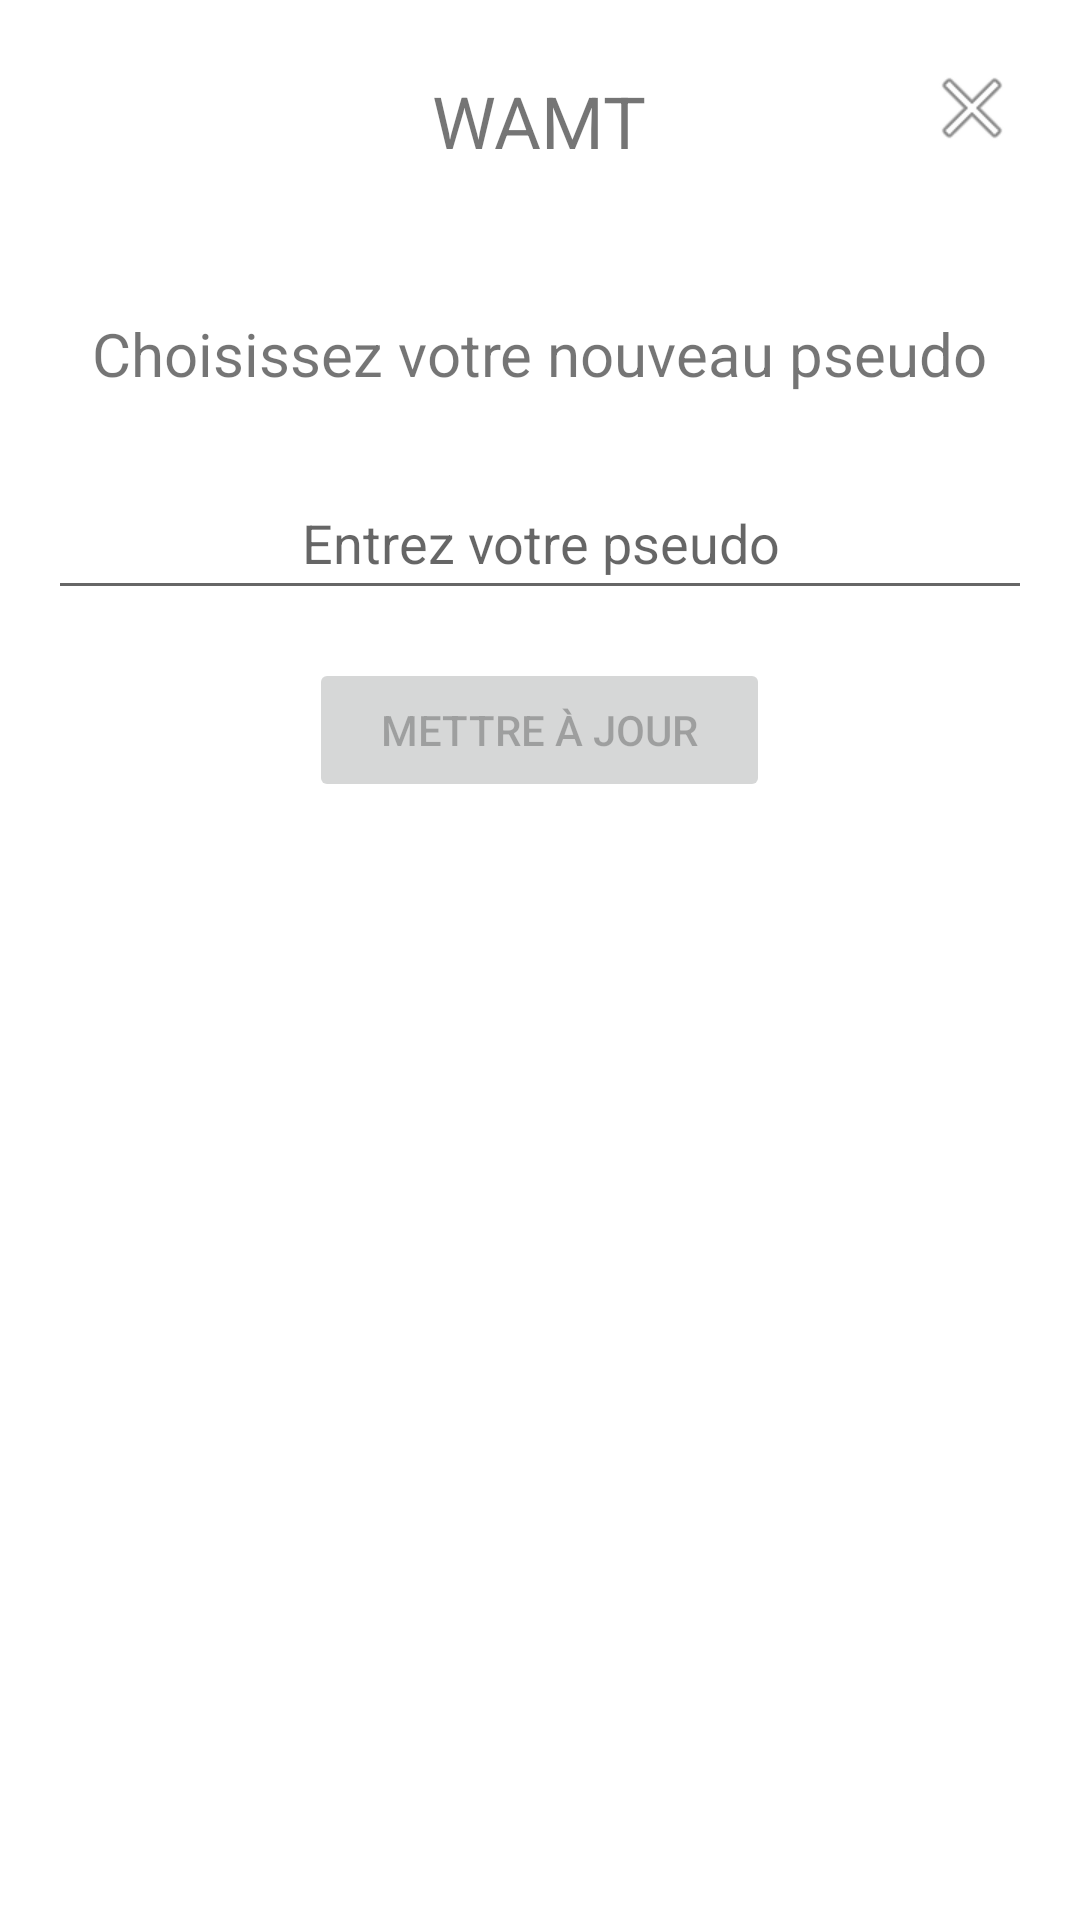

Icons on this 1080px x 1920px Android screen, each with the point to tap as [x,y]:
Fermer: [972,108]
